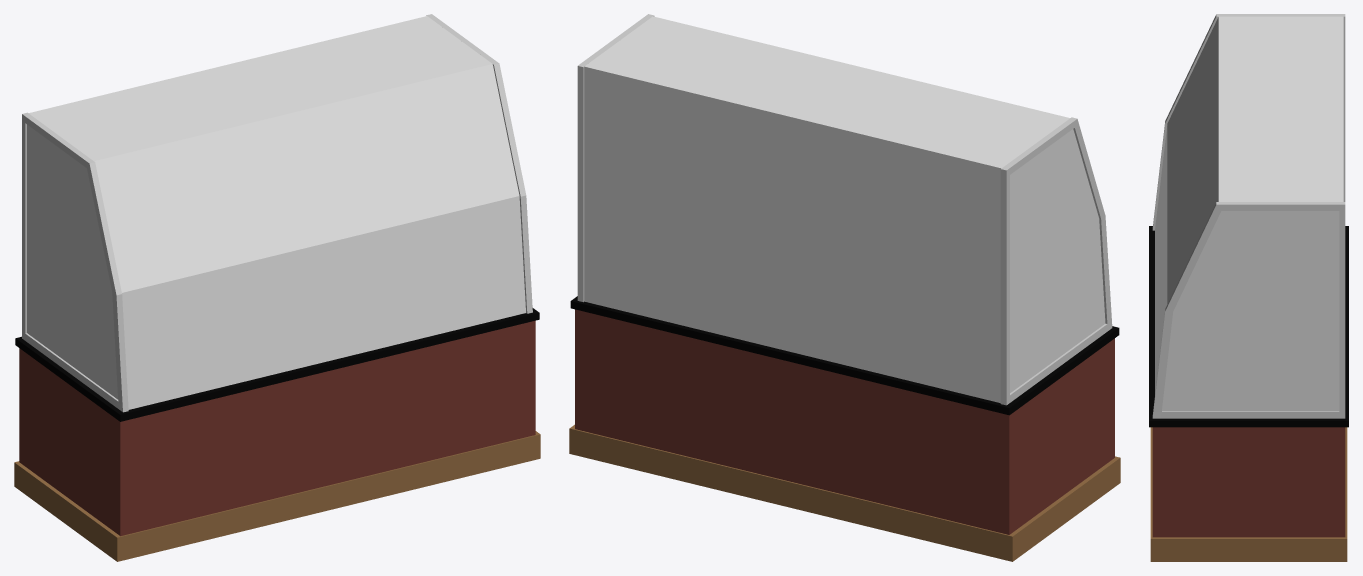
Rendered from C_Countertop_Refrigerated_Display_Case.fbx.
3 renders of one model, left to right at view 1: azimuth 30°, elevation 25°; view 2: azimuth 150°, elevation 25°; view 3: azimuth 270°, elevation 25°, orthographic. The views are drawn at different scales.
Parts seen in each view (by area): view 1: C_Countertop_Refrigerated_Display_Case; view 2: C_Countertop_Refrigerated_Display_Case; view 3: C_Countertop_Refrigerated_Display_Case.
Boxes of the visible parts, x1=… form: C_Countertop_Refrigerated_Display_Case: x1=14, y1=14, x2=540, y2=561; C_Countertop_Refrigerated_Display_Case: x1=569, y1=14, x2=1120, y2=561; C_Countertop_Refrigerated_Display_Case: x1=1149, y1=14, x2=1348, y2=561.
Size of the model in its own units: 1283 by 550 by 1076.
